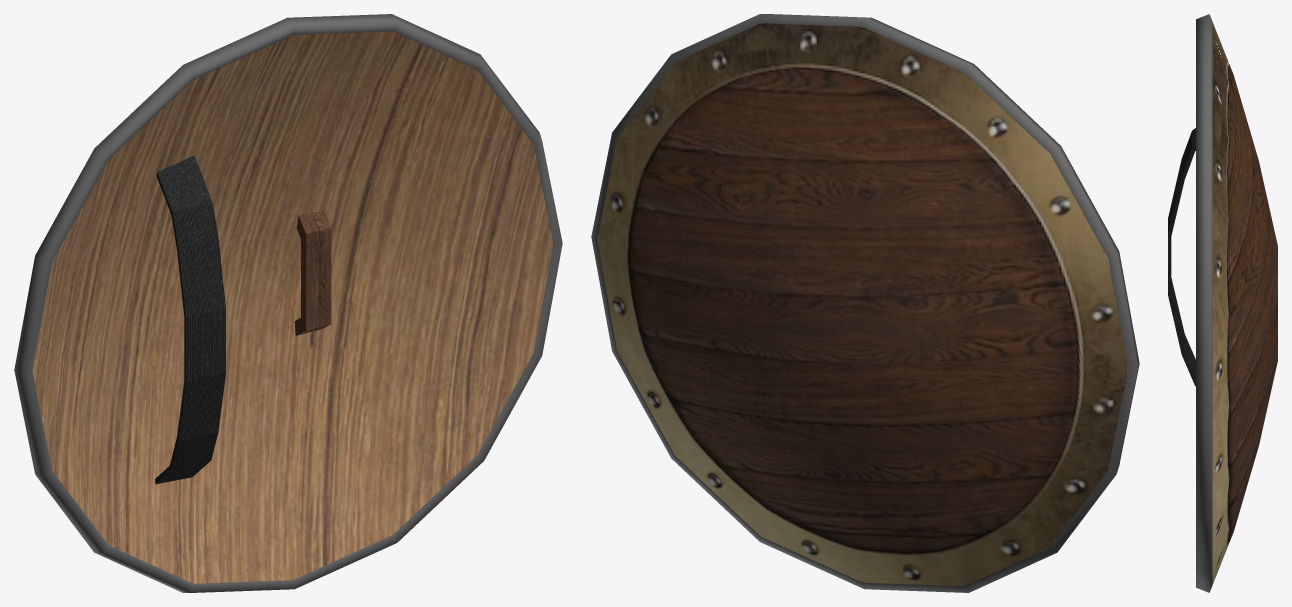
Rendered from ShieldWood.fbx.
3 renders of one model, left to right at view 1: azimuth 30°, elevation 25°; view 2: azimuth 150°, elevation 25°; view 3: azimuth 270°, elevation 25°, orthographic. The views are drawn at different scales.
Parts seen in each view (by area): view 1: shieldwood; view 2: shieldwood; view 3: shieldwood.
Boxes of the visible parts, x1,y1,x2,y2 form: shieldwood: [14, 14, 562, 592]; shieldwood: [591, 14, 1139, 592]; shieldwood: [1168, 14, 1277, 592].
Size of the model in its own units: 102 by 19.42 by 102.
5 materials, 4 textured.
